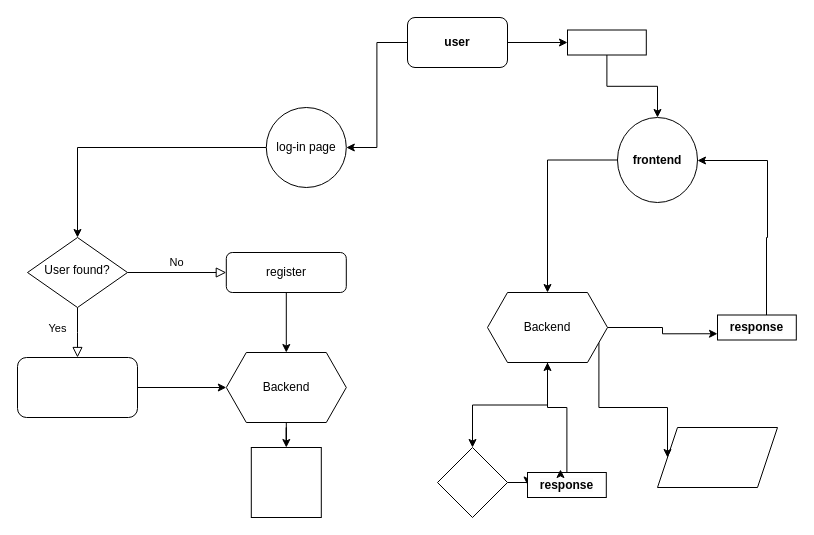
The diagram is 814 pixels wide and 535 high, and some of its shapes have lost their labels. The box of each missing label's shape, as (x1, y1, x2, y2) in pixels:
authenticate establish a chat: (250, 446, 321, 518)
database: (656, 426, 778, 488)
gpt: (436, 446, 508, 518)
log in: (16, 356, 138, 418)
message: (566, 29, 646, 55)
